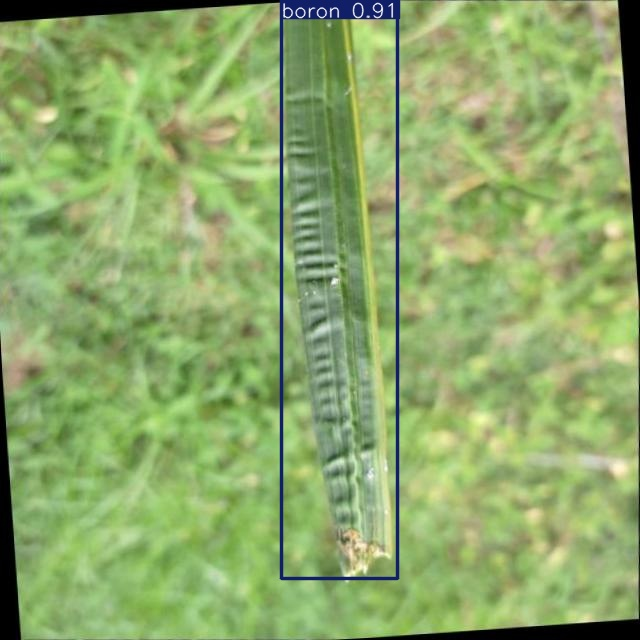nitrogen: (281, 1, 398, 579)
